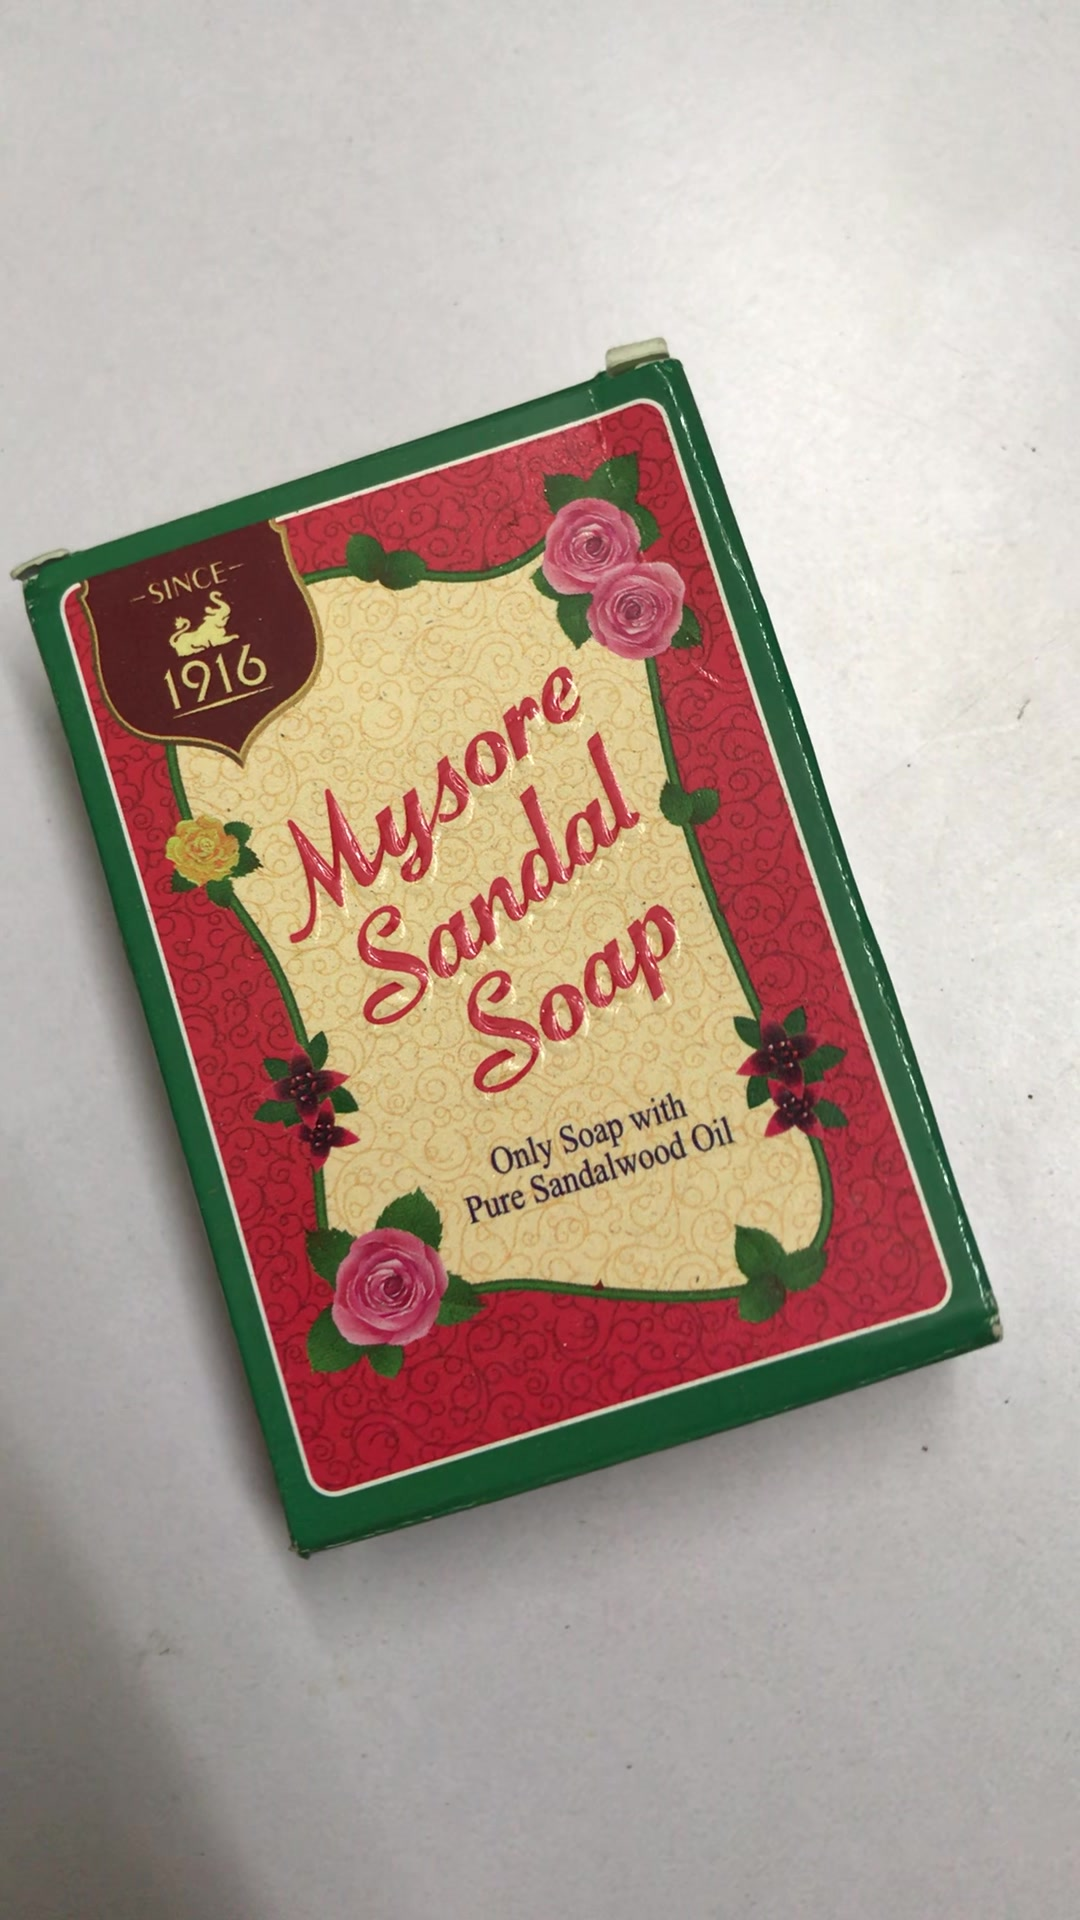mysore sandal soap: (22, 369, 1004, 1567)
